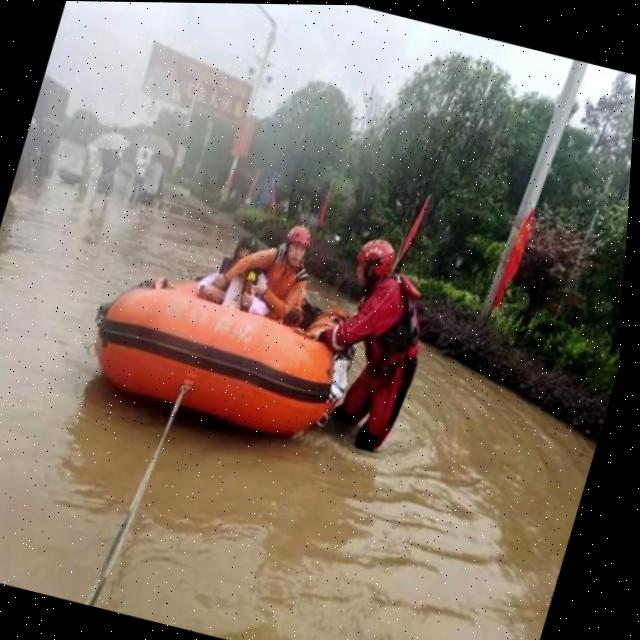civilian: (186, 218, 291, 324), (82, 141, 133, 220), (128, 148, 176, 225), (120, 143, 157, 204)
rescuer: (276, 219, 466, 473), (210, 204, 340, 326)
